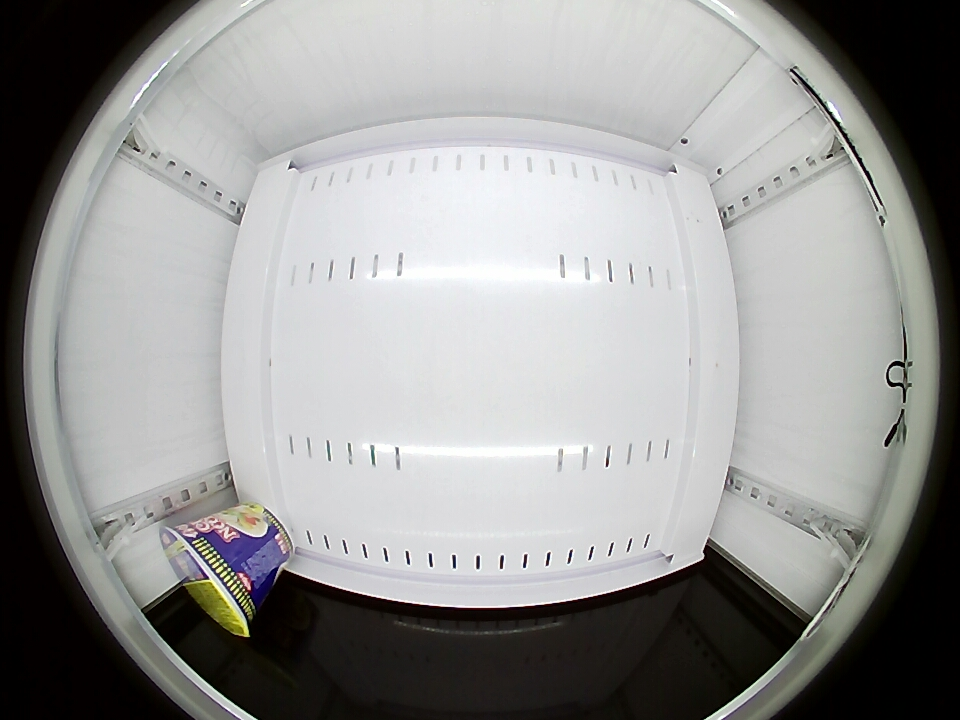heweidao: (159, 518, 261, 638)
